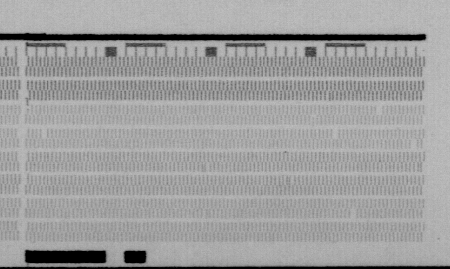Broken hole: (374, 103, 385, 118), (407, 139, 420, 151), (329, 128, 340, 141), (347, 207, 358, 220), (40, 128, 50, 141)
Oblique printing: (23, 90, 32, 108), (285, 174, 297, 187), (200, 162, 213, 174)
